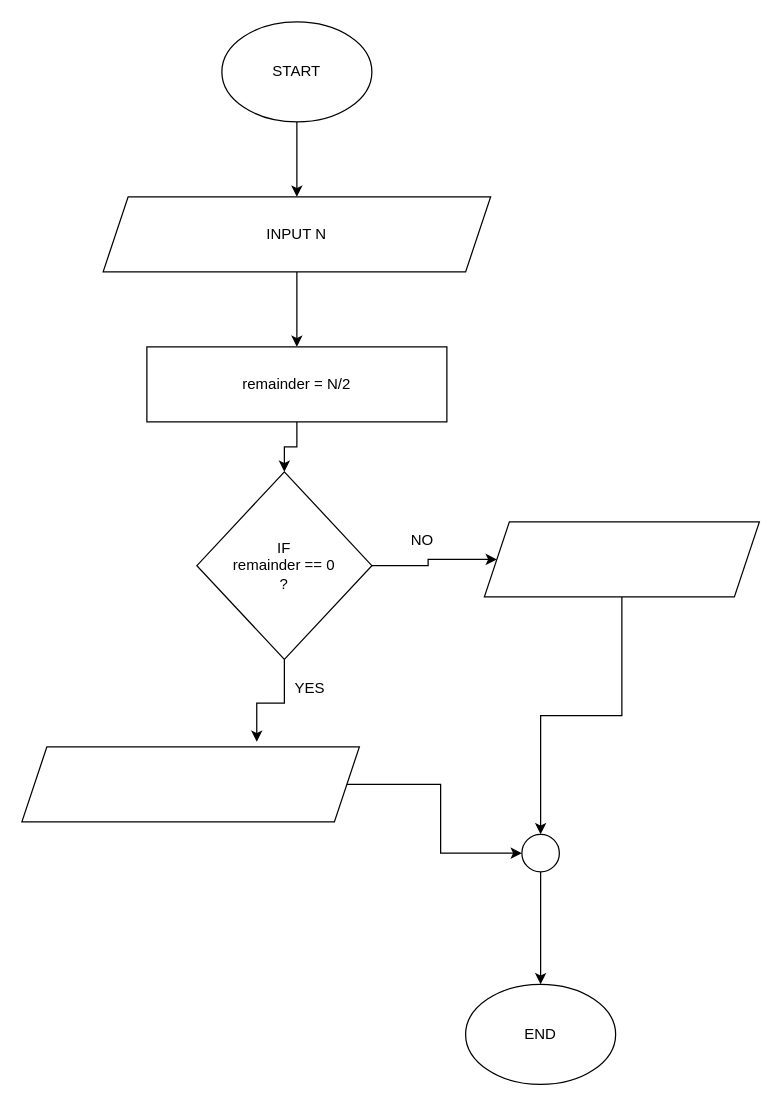
The diagram is 781 pixels wide and 1106 high, and some of its shapes have lost their labels. The centre of each missing label's shape, as x and y in pixels:
PRINT "N is Even": point (190, 784)
PRINT "N is Odd": point (621, 559)
